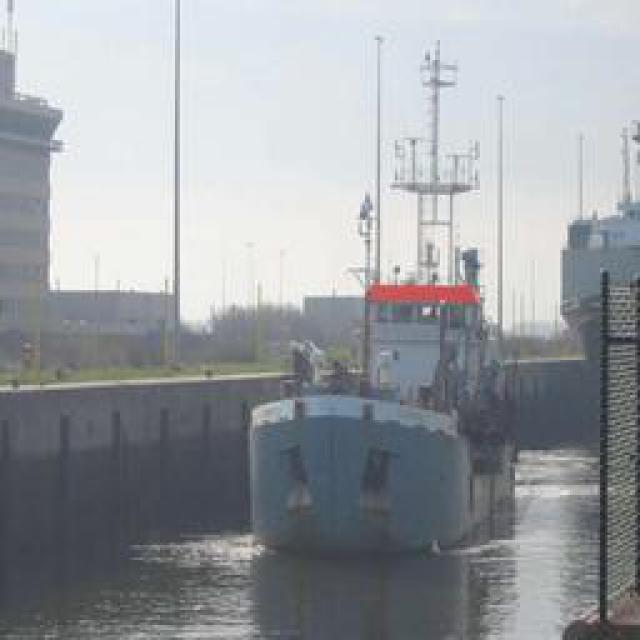Ship: (248, 36, 536, 564)
